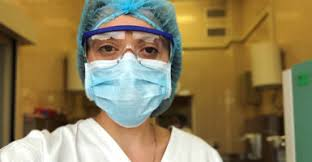mask: (80, 13, 180, 134)
